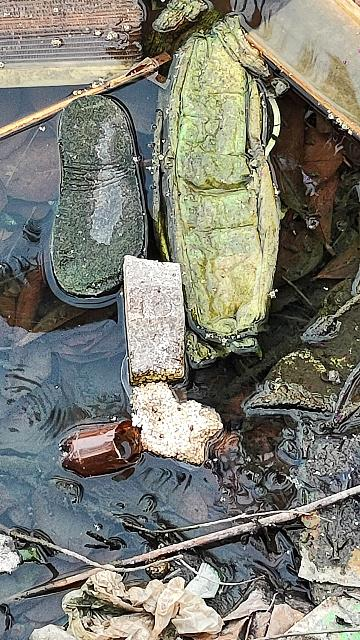cocksheet: (108, 247, 205, 381)
